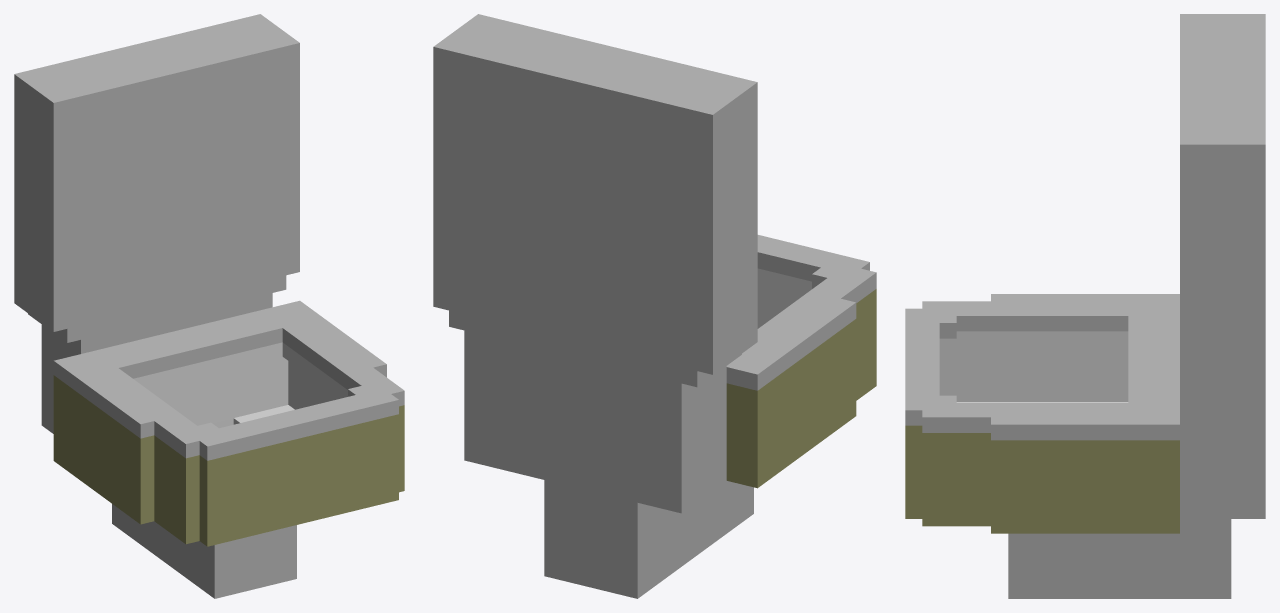
File: toilet.fbx
3 renders of one model, left to right at view 1: azimuth 30°, elevation 25°; view 2: azimuth 150°, elevation 25°; view 3: azimuth 270°, elevation 25°, orthographic. The views are drawn at different scales.
Visible parts, largest first — view 1: toilet; view 2: toilet; view 3: toilet.
Boxes of the visible parts, box(x1,y1,x2,y2) form: toilet: box(14, 14, 404, 598); toilet: box(433, 14, 876, 598); toilet: box(905, 14, 1265, 598).
Bounding box in the file's own units: 210 × 180 × 320.
Materials: 1 (1 with a texture image).
